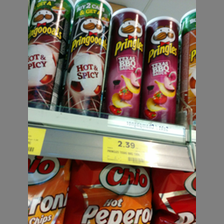chips: (64, 1, 110, 116), (69, 162, 155, 223), (28, 1, 72, 110), (107, 5, 146, 117), (142, 13, 181, 122), (28, 155, 69, 224)
